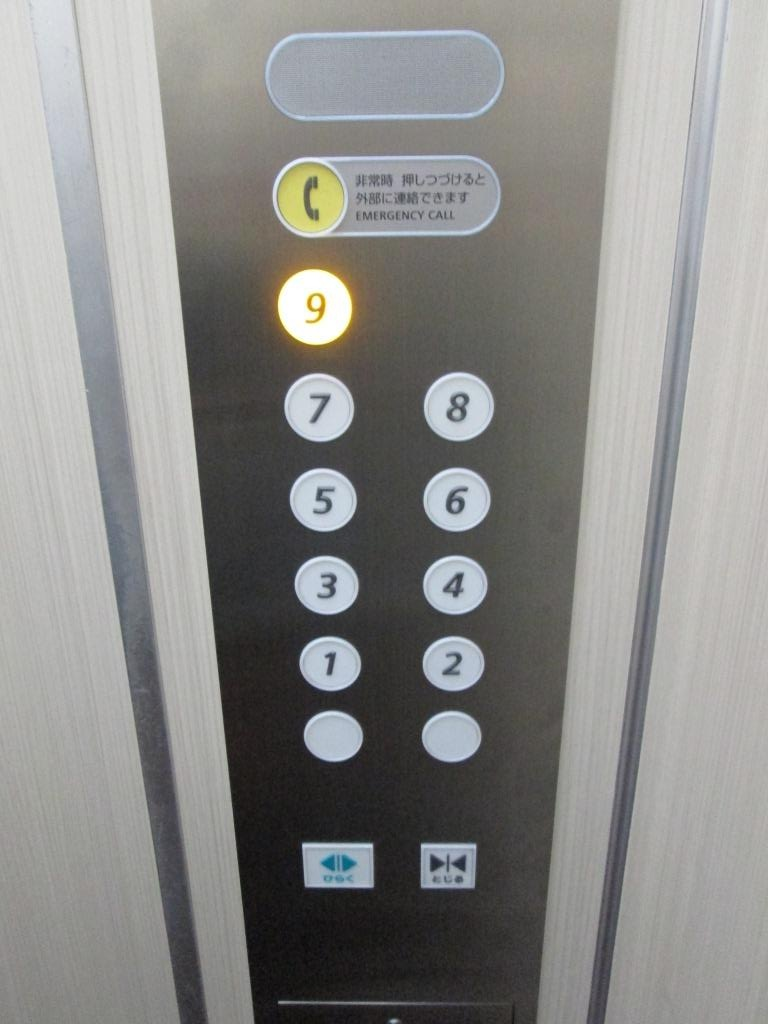1: (298, 633, 363, 694)
2: (420, 634, 487, 693)
3: (294, 554, 359, 617)
4: (418, 554, 488, 617)
5: (287, 464, 359, 534)
6: (421, 463, 494, 533)
7: (282, 371, 356, 444)
8: (420, 369, 496, 443)
9: (276, 265, 354, 347)
call: (274, 158, 349, 239)
close: (417, 839, 480, 892)
empty: (419, 709, 483, 764), (302, 710, 364, 763)
open: (299, 838, 376, 891)
